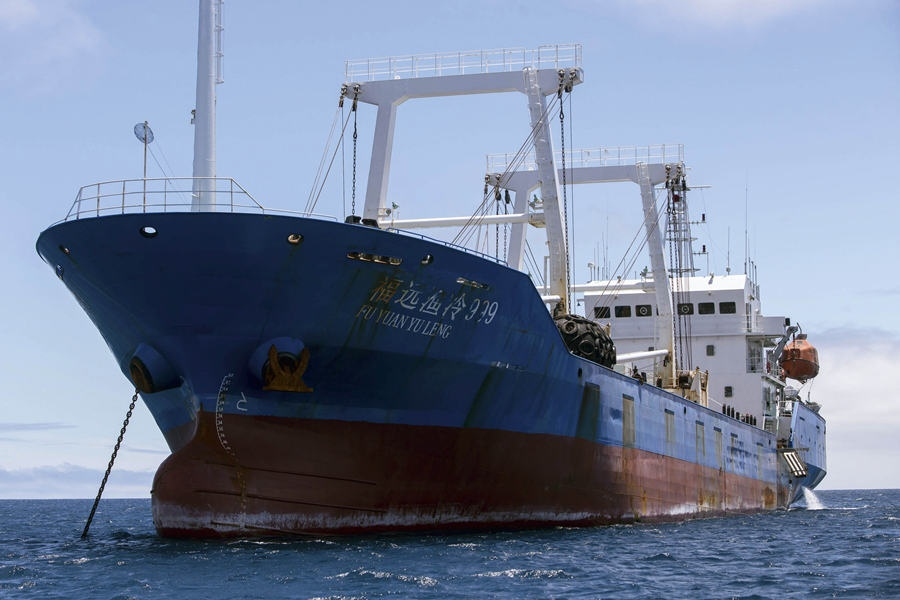Cargoship: (25, 37, 835, 534)
